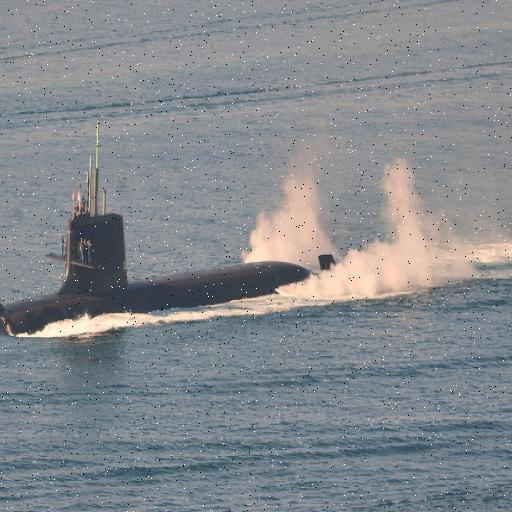submarine: (1, 104, 339, 335)
